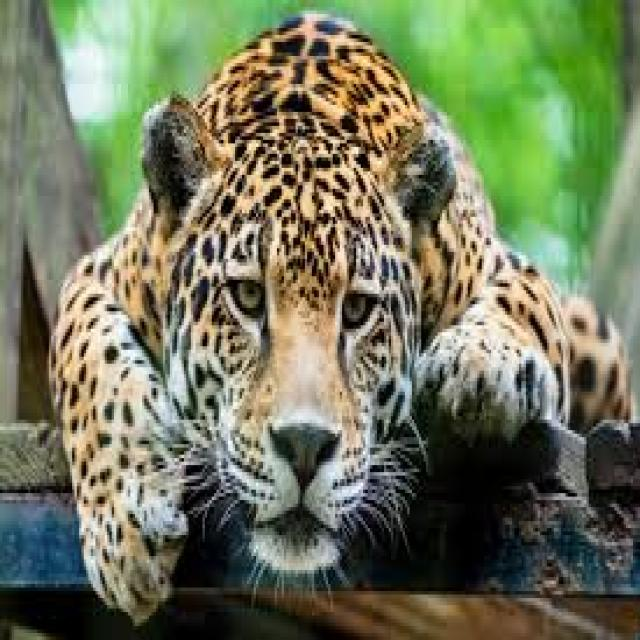Jaguar: (47, 0, 633, 630)
